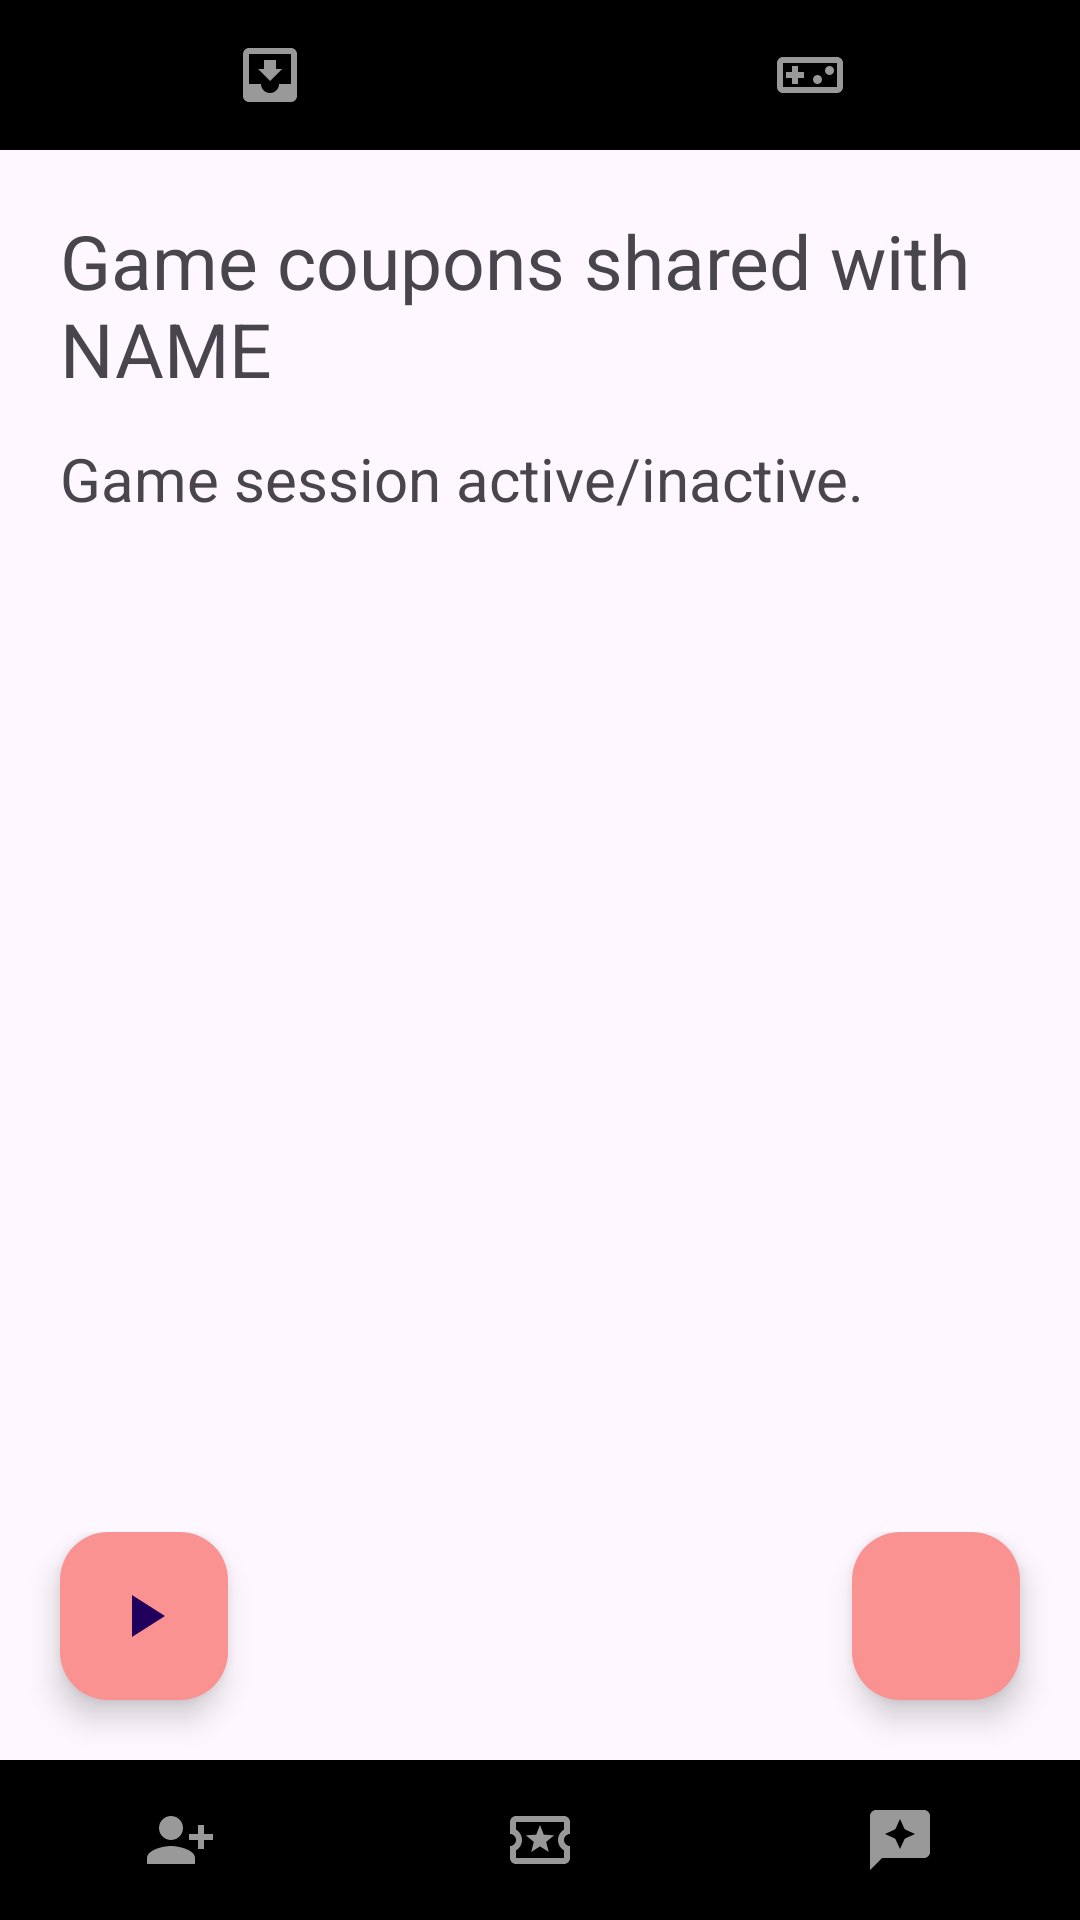

Icon bounding boxes for this 1080*1920 phone screenshot, format (x1, y1, x2, y2):
local activity: (510, 1816, 570, 1864)
person add: (147, 1816, 213, 1864)
play arrow: (60, 1532, 228, 1700)
reviews: (870, 1810, 930, 1870)
